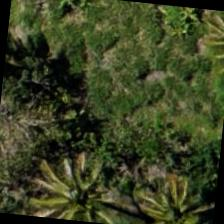Kelapa_Sawit: (35, 144, 133, 223), (123, 170, 218, 223)
